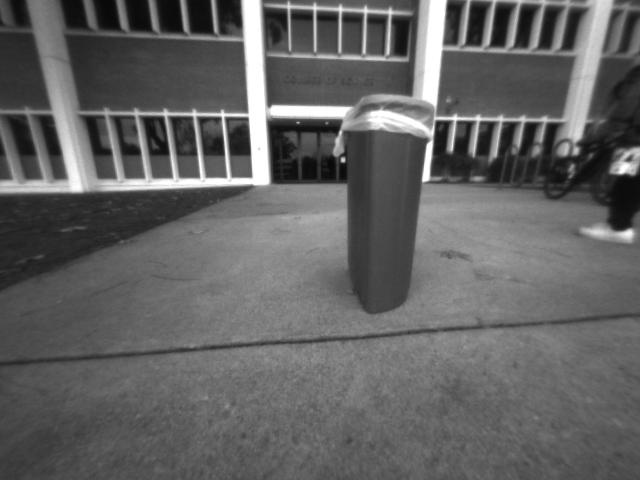trashcan: (340, 88, 432, 323)
